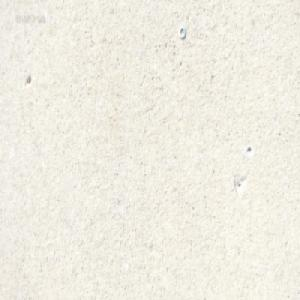Washer: (178, 24, 186, 38)
